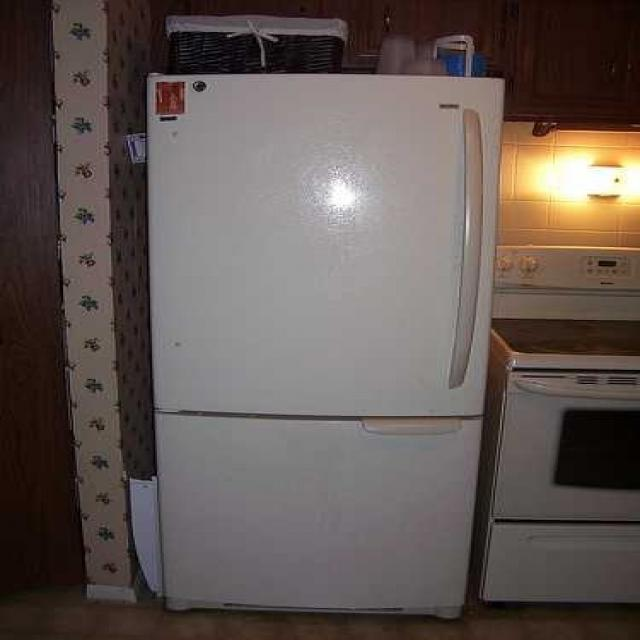refrigerator: (145, 71, 502, 614)
